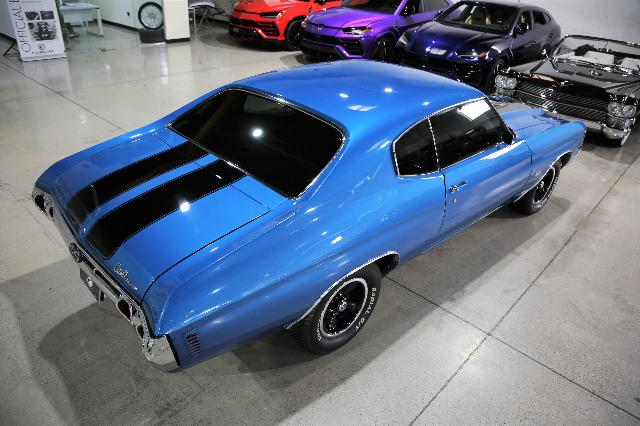chevelle-1972: (30, 60, 586, 374)
